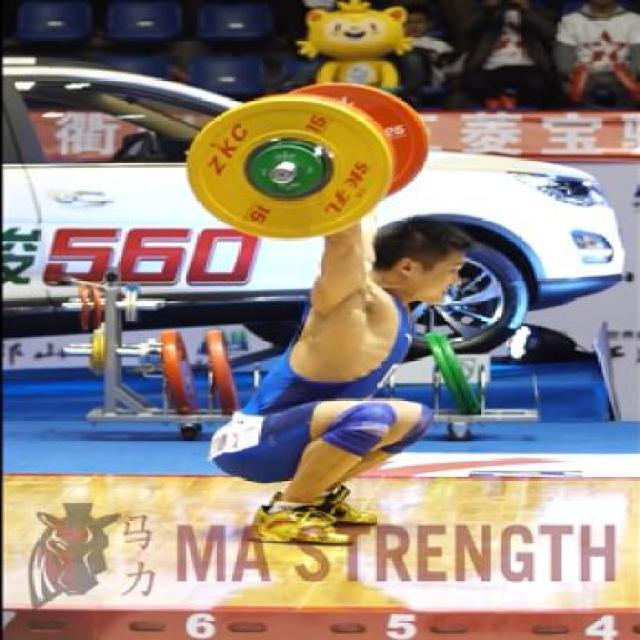Barbell: (266, 163, 302, 188)
